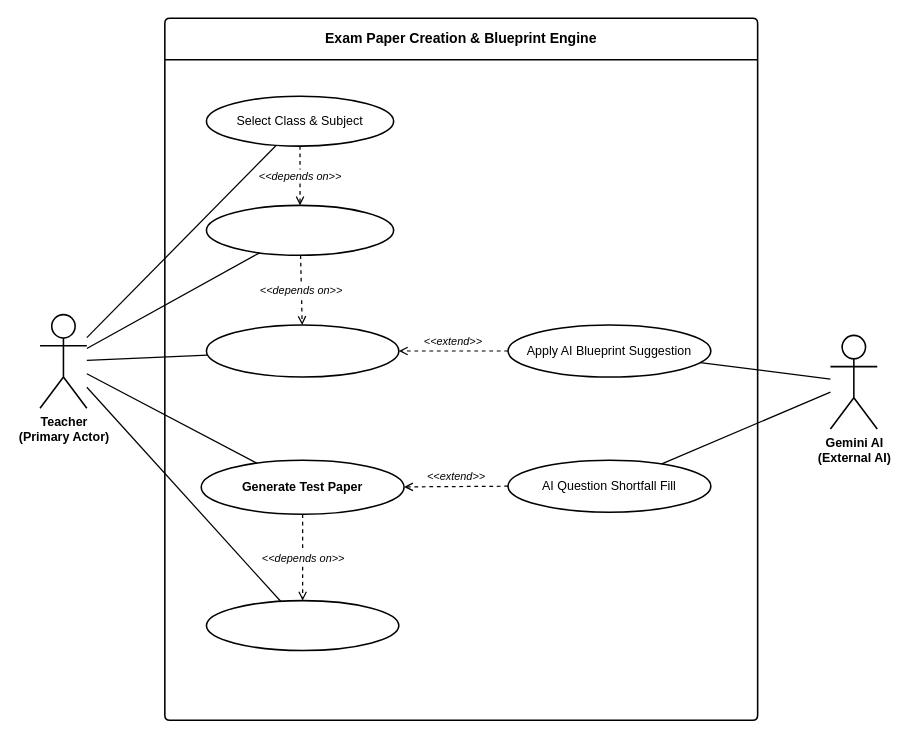
This 908x739 diagram has some shape labels left out. The shapes that lost their labels are listed below. From the top down, each one's centre as x and y in pixels, then its label:
(299,230): Filter Syllabus & Topics
(302,350): Configure Blueprint Matrix
(302,625): Save Paper to My Tests
